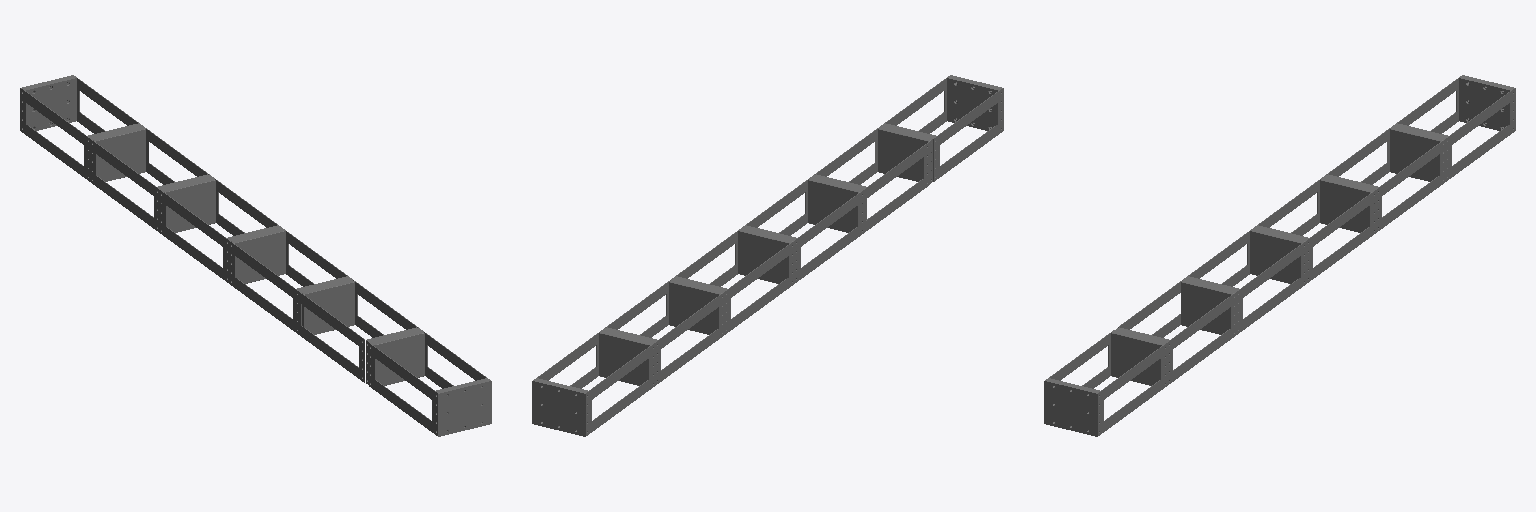
The robot description file, URDF, robot "my_robot":
<?xml version="1.0"?>
<robot name="my_robot">
  <!-- Base Link -->
  <link name="base_link">
    <visual>
      <geometry>
        <mesh filename="package://my_gazebo_model/meshes/FinalModel1.STL" scale="1 1 1"/>
      </geometry>
      <material name="gray">
        <color rgba="0.5 0.5 0.5 1.0"/>
      </material>
    </visual>
    <collision>
      <geometry>
        <mesh filename="package://my_gazebo_model/meshes/FinalModel1.STL" scale="1 1 1"/>
      </geometry>
    </collision>
    <inertial>
      <mass value="1.0"/>
      <origin xyz="0 0 0"/>
      <inertia ixx="1" ixy="0" ixz="0" iyy="1" iyz="0" izz="1"/>
    </inertial>
  </link>

  <!-- Joints can be added here if your model has moving parts -->

</robot>

--- Render facts (derived) ---
The picture shows the robot from 3 angles, left to right: view 1: azimuth 30°, elevation 25°; view 2: azimuth 150°, elevation 25°; view 3: azimuth 330°, elevation 25°; orthographic projection.
Model my_robot with 1 links and 0 joints (none), rooted at base_link, posed all joints at 0.
Visible links, largest first — view 1: base_link; view 2: base_link; view 3: base_link.
Boxes of the visible links, left/top/right/bottom form: base_link: left=20, top=75, right=491, bottom=436; base_link: left=532, top=75, right=1003, bottom=436; base_link: left=1044, top=75, right=1515, bottom=436.
Bounding box of the posed robot: 154 × 2100 × 120 m (x, y, z).
1 mesh visuals loaded from 1 distinct referenced files (1 binary STL).